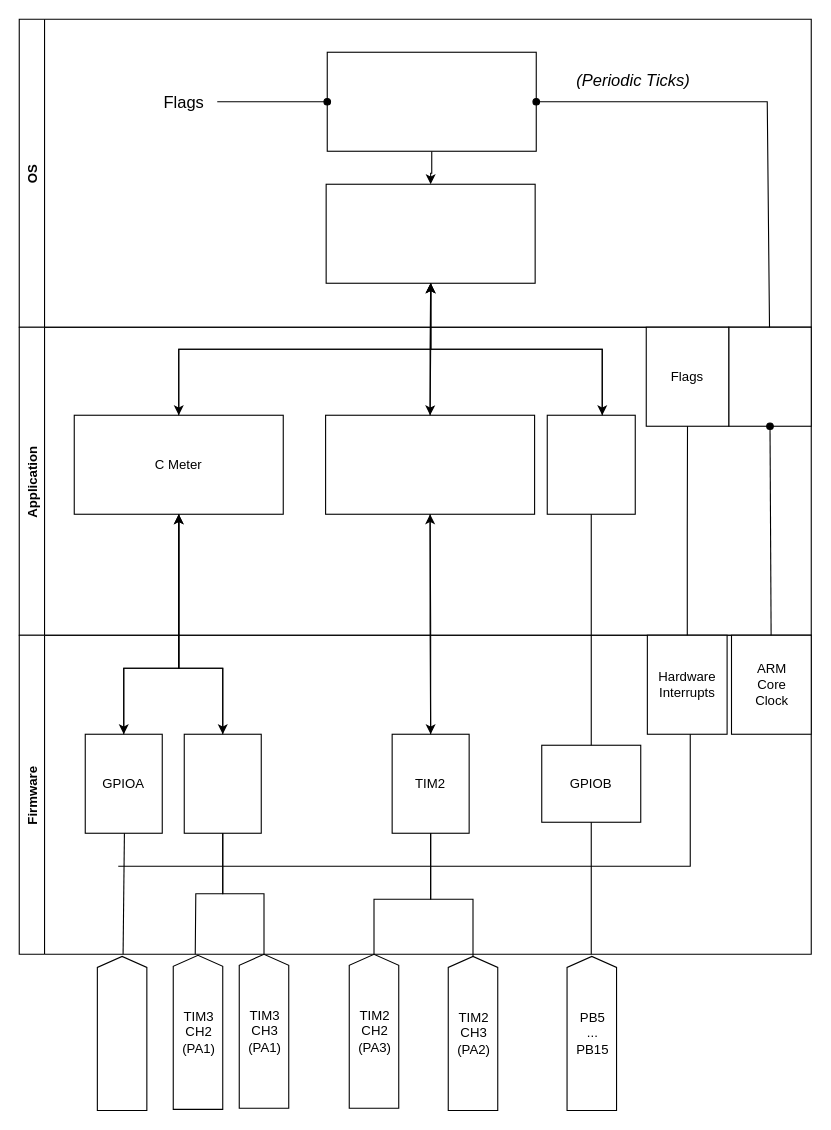
Image size: 831x1130. Some labels were removed from this diagram. Each missing label, with the centre of its shape:
ADC4 (PA4): (x=121, y=1032)
Data Manager: (x=430, y=233)
L Meter: (x=429, y=464)
LCD: (x=590, y=464)
SEOS: (x=431, y=101)
SysTick Timer: (x=769, y=376)
TIM3: (x=222, y=783)
